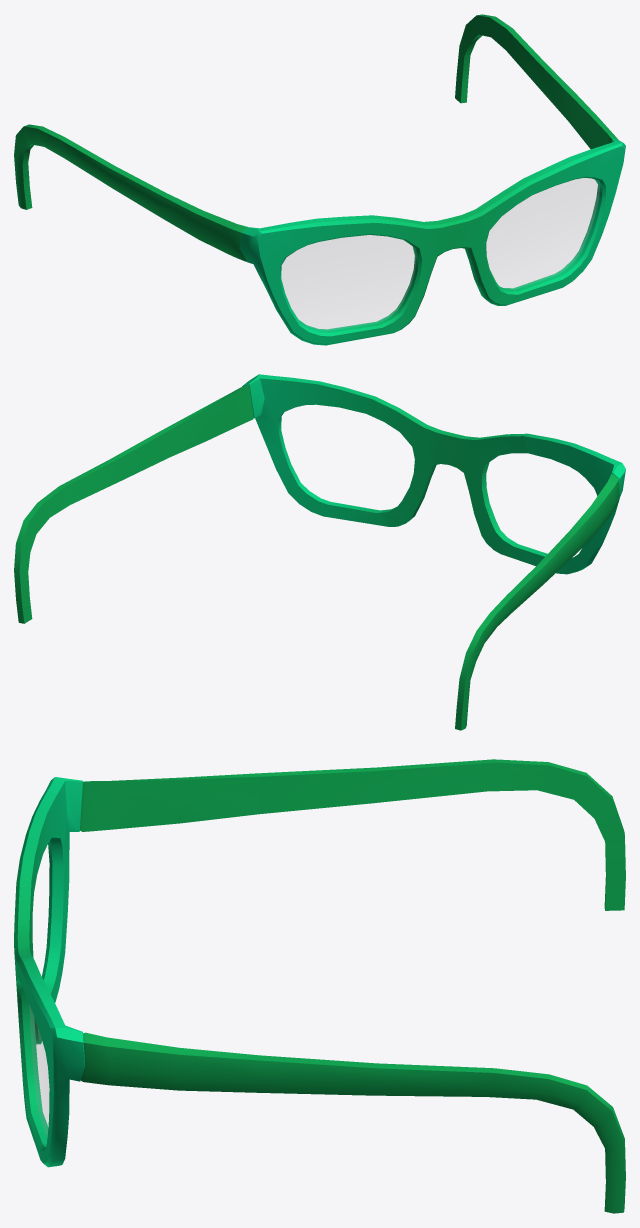
3 renders of one model, top to bottom at view 1: azimuth 30°, elevation 25°; view 2: azimuth 150°, elevation 25°; view 3: azimuth 270°, elevation 25°, orthographic. The views are drawn at different scales.
Visible parts, largest first — view 1: Wolf3D_Glasses; view 2: Wolf3D_Glasses; view 3: Wolf3D_Glasses.
Part boxes in pixels (left/top/right/bottom): Wolf3D_Glasses: left=14, top=14, right=625, bottom=345; Wolf3D_Glasses: left=14, top=374, right=625, bottom=730; Wolf3D_Glasses: left=14, top=759, right=625, bottom=1213.
Size of the model in its own units: 0.1663 by 0.0443 by 0.1354.
Materials: 1 (1 with a texture image).
